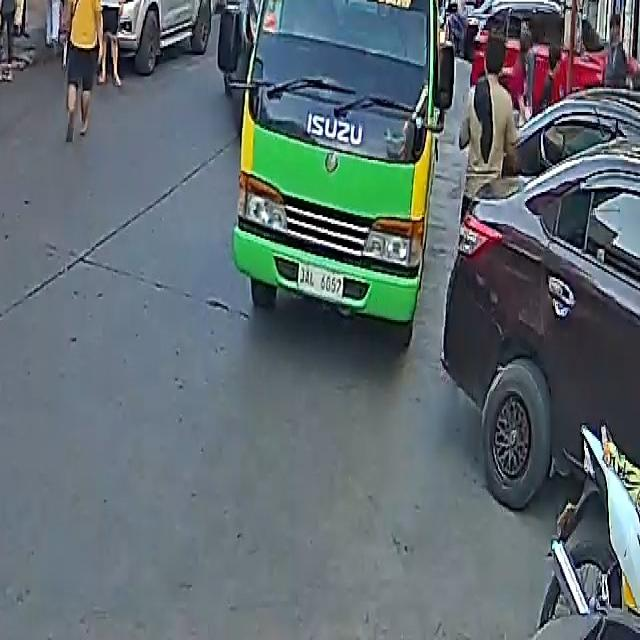car: (445, 89, 640, 526), (77, 0, 222, 73)
